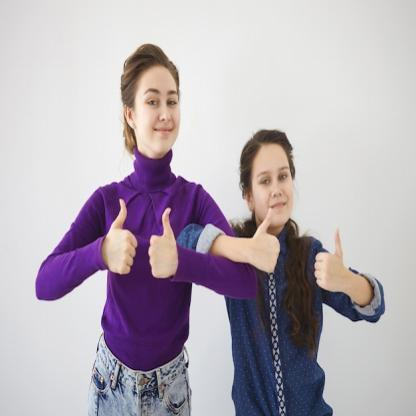thumb_up: (101, 195, 139, 279), (146, 202, 178, 283), (250, 201, 282, 276), (314, 224, 346, 294)
